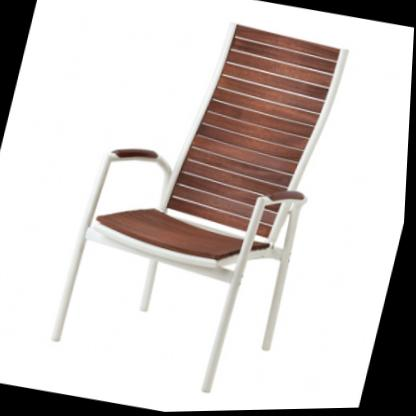Chair: (43, 0, 356, 409)
